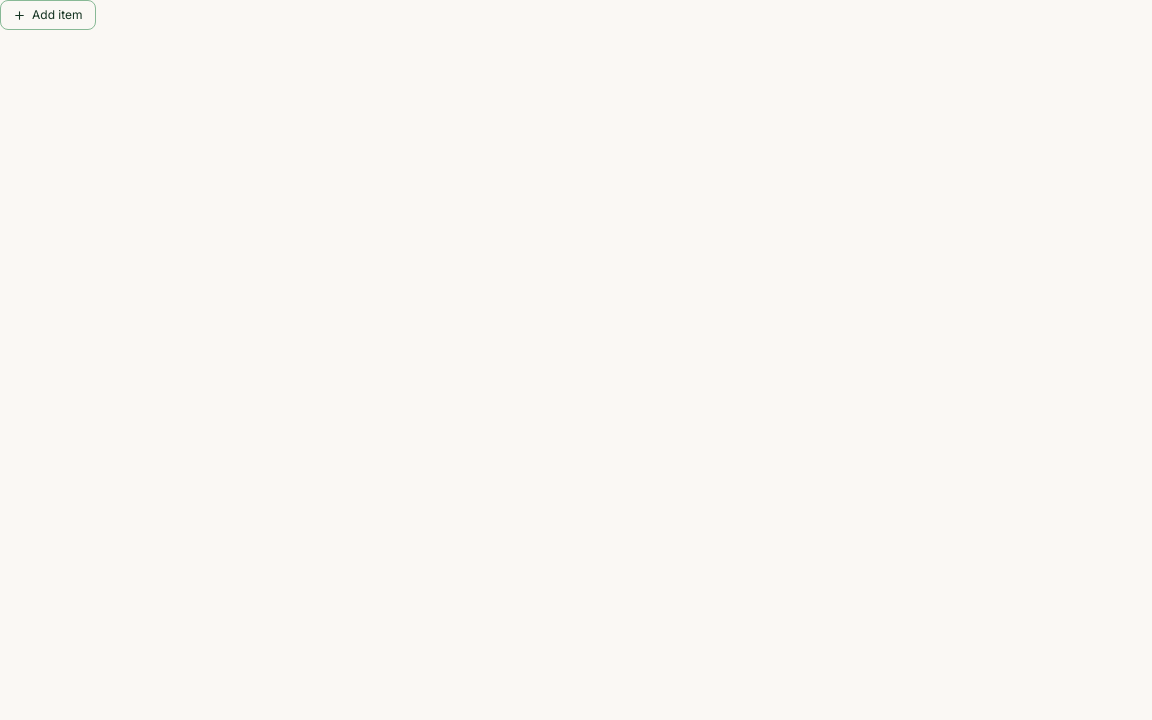
Scenario: S1 — the click target › only the LAST text segment grows — an interior one stays content-sized
Click the button "Add item".
click(48, 15)  # box [0, 0, 96, 30]
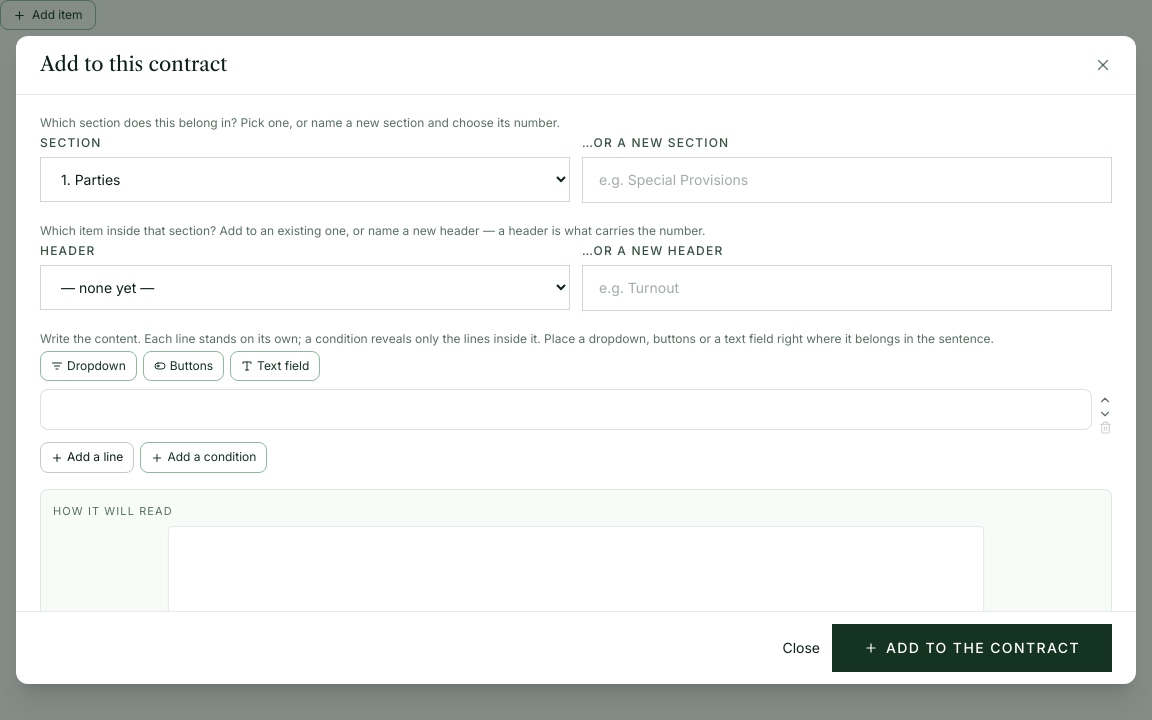
Type keys "before"
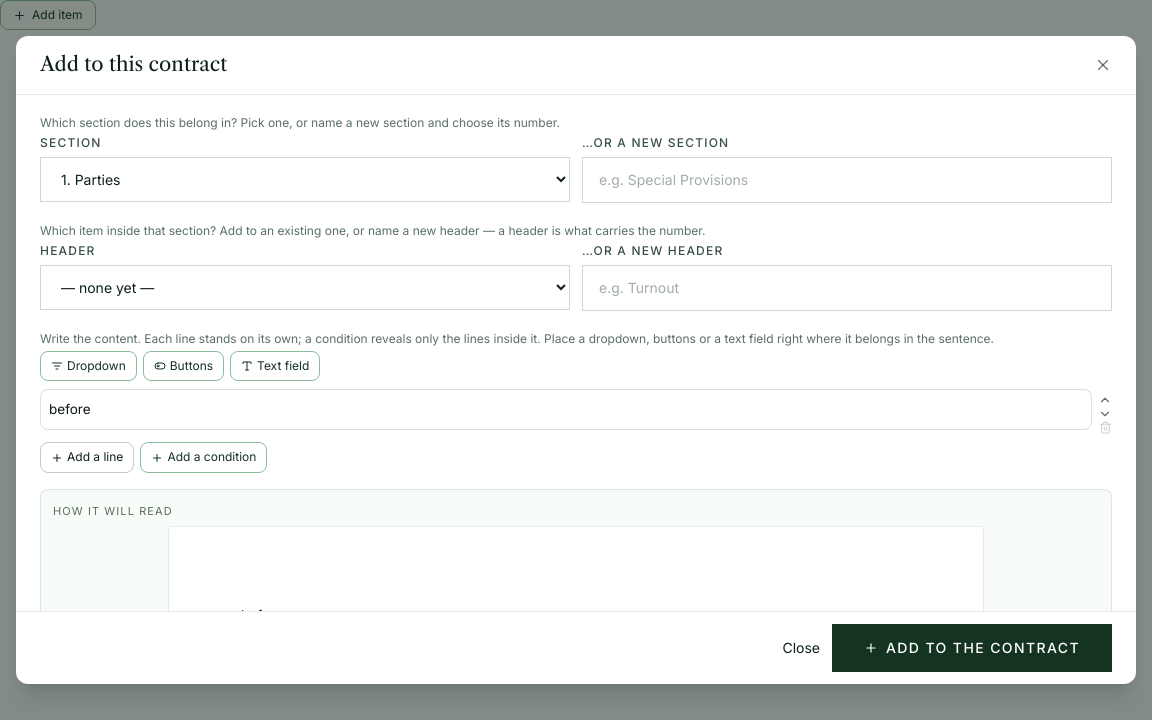
Click the button "Text field".
click(275, 366)  # box [230, 351, 320, 381]
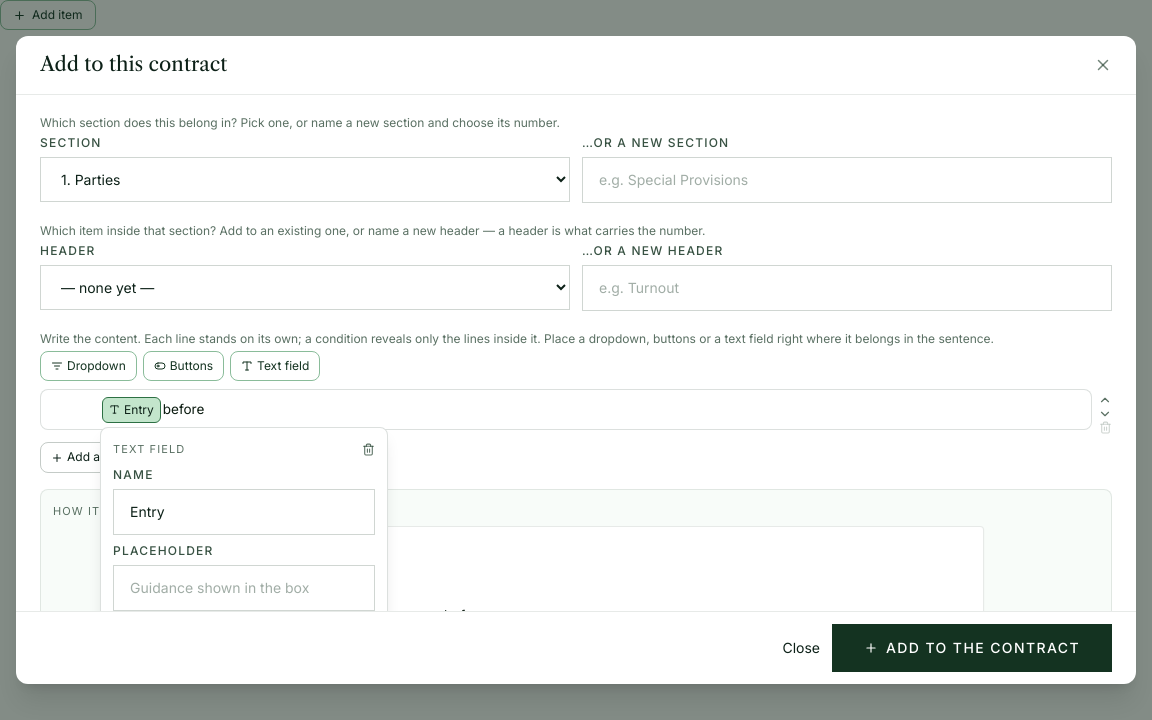
Check: the number of fields named "Line text" is 2, box [49, 396, 100, 423]; [163, 396, 1083, 423]
